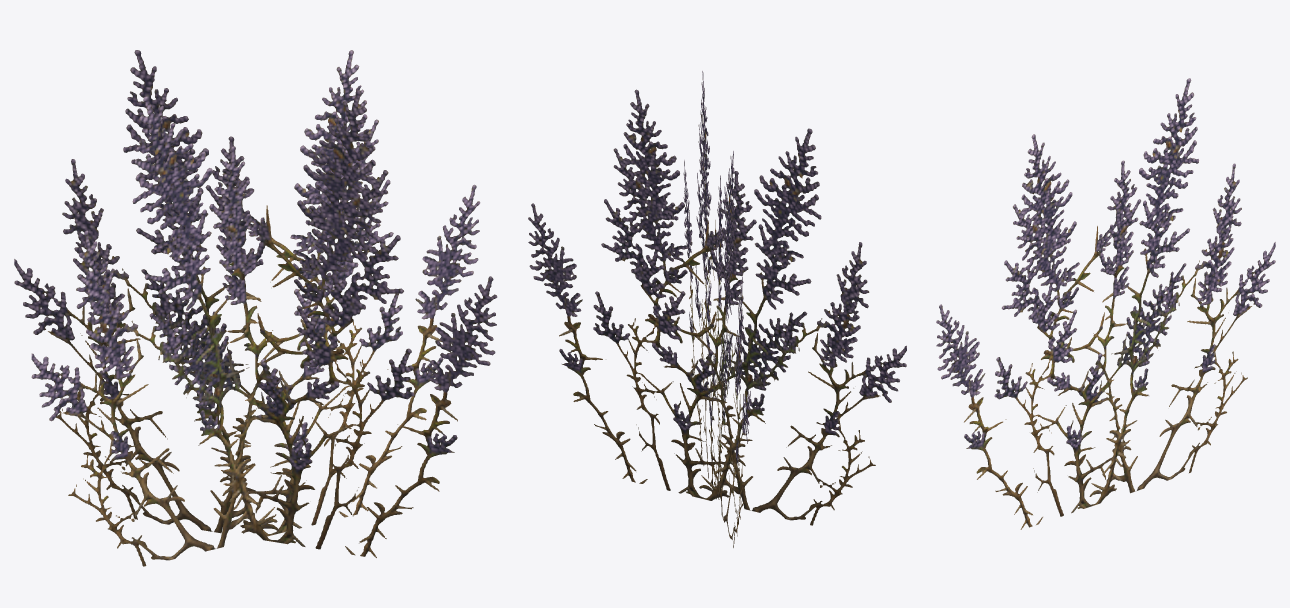
Rendered from xsm_cao_5.FBX.
3 views of the same model, side by side, from view 1: azimuth 30°, elevation 25°; view 2: azimuth 150°, elevation 25°; view 3: azimuth 270°, elevation 25° (orthographic). The views are drawn at different scales.
Visible parts, largest first — view 1: xsm_cao_5; view 2: xsm_cao_5; view 3: xsm_cao_5.
Boxes of the visible parts, box(x1,y1,x2,y2) form: xsm_cao_5: box(14, 50, 497, 566); xsm_cao_5: box(528, 71, 906, 547); xsm_cao_5: box(936, 78, 1275, 529).
Size of the model in its own units: 268 by 268 by 209.
